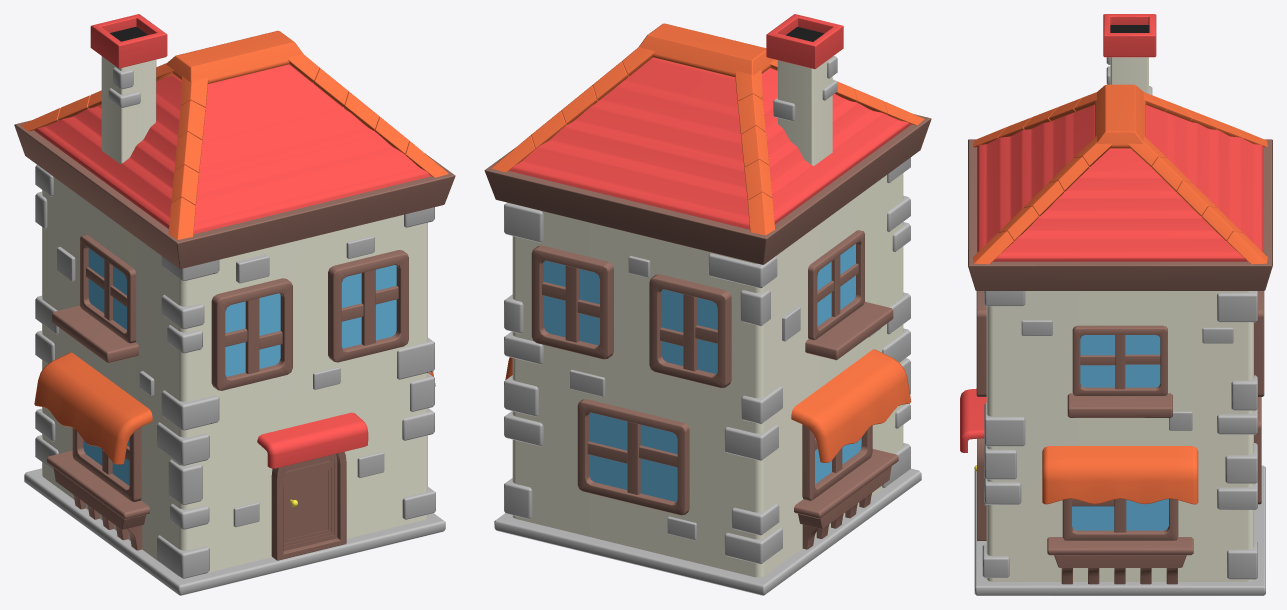
The model's file is Town_1_House_1.glb.
The picture shows the model from 3 angles, left to right: view 1: azimuth 30°, elevation 25°; view 2: azimuth 150°, elevation 25°; view 3: azimuth 270°, elevation 25°; orthographic projection. The views are drawn at different scales.
Parts seen in each view (by area): view 1: Town_1_House_1; view 2: Town_1_House_1; view 3: Town_1_House_1.
Boxes of the visible parts, x1=… form: Town_1_House_1: x1=14, y1=14, x2=455, y2=595; Town_1_House_1: x1=484, y1=14, x2=931, y2=595; Town_1_House_1: x1=960, y1=14, x2=1272, y2=595.
Size of the model in its own units: 6.89 by 10.19 by 6.2.
Materials: 1 (1 with a texture image).
